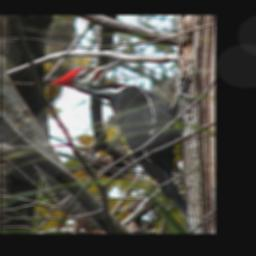Woodpecker: (50, 58, 196, 217)
